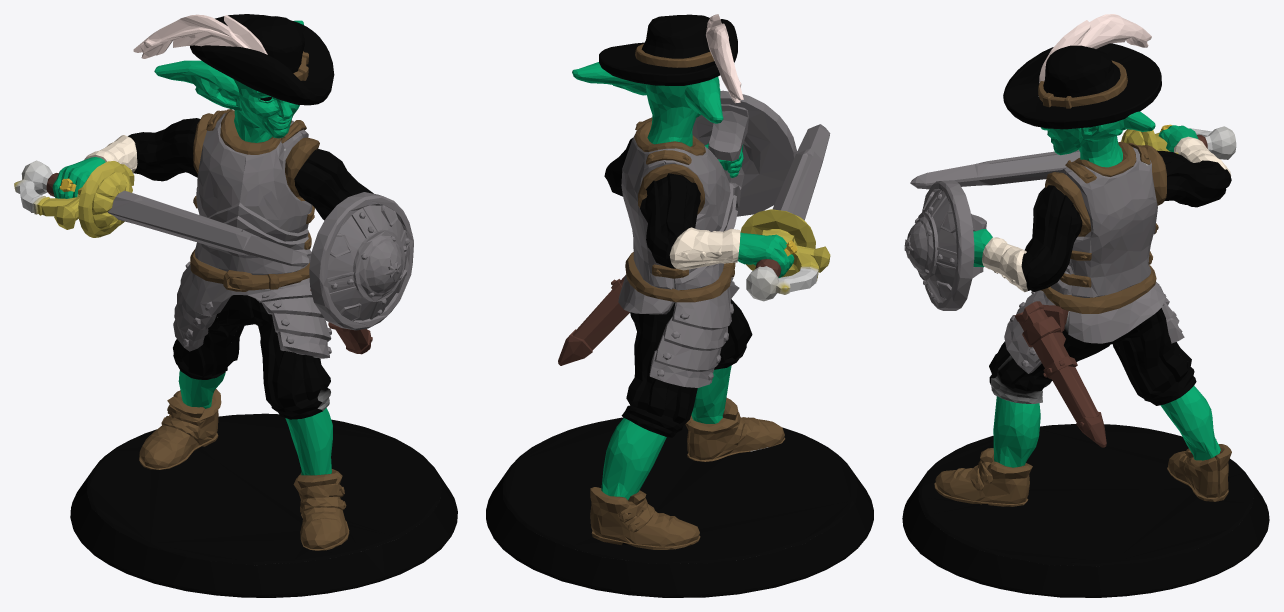
Rendered from glenn_medium.obj.
3 renders of one model, left to right at view 1: azimuth 30°, elevation 25°; view 2: azimuth 150°, elevation 25°; view 3: azimuth 270°, elevation 25°, orthographic. The views are drawn at different scales.
Visible parts, largest first — view 1: Glenn_Medium; view 2: Glenn_Medium; view 3: Glenn_Medium.
Boxes of the visible parts, bbox=[...] form: Glenn_Medium: bbox=[14, 14, 457, 597]; Glenn_Medium: bbox=[486, 14, 873, 597]; Glenn_Medium: bbox=[902, 14, 1269, 597].
Bounding box in the file's own units: 0.9934 × 1.36 × 0.9398.
1 material, 1 textured.
